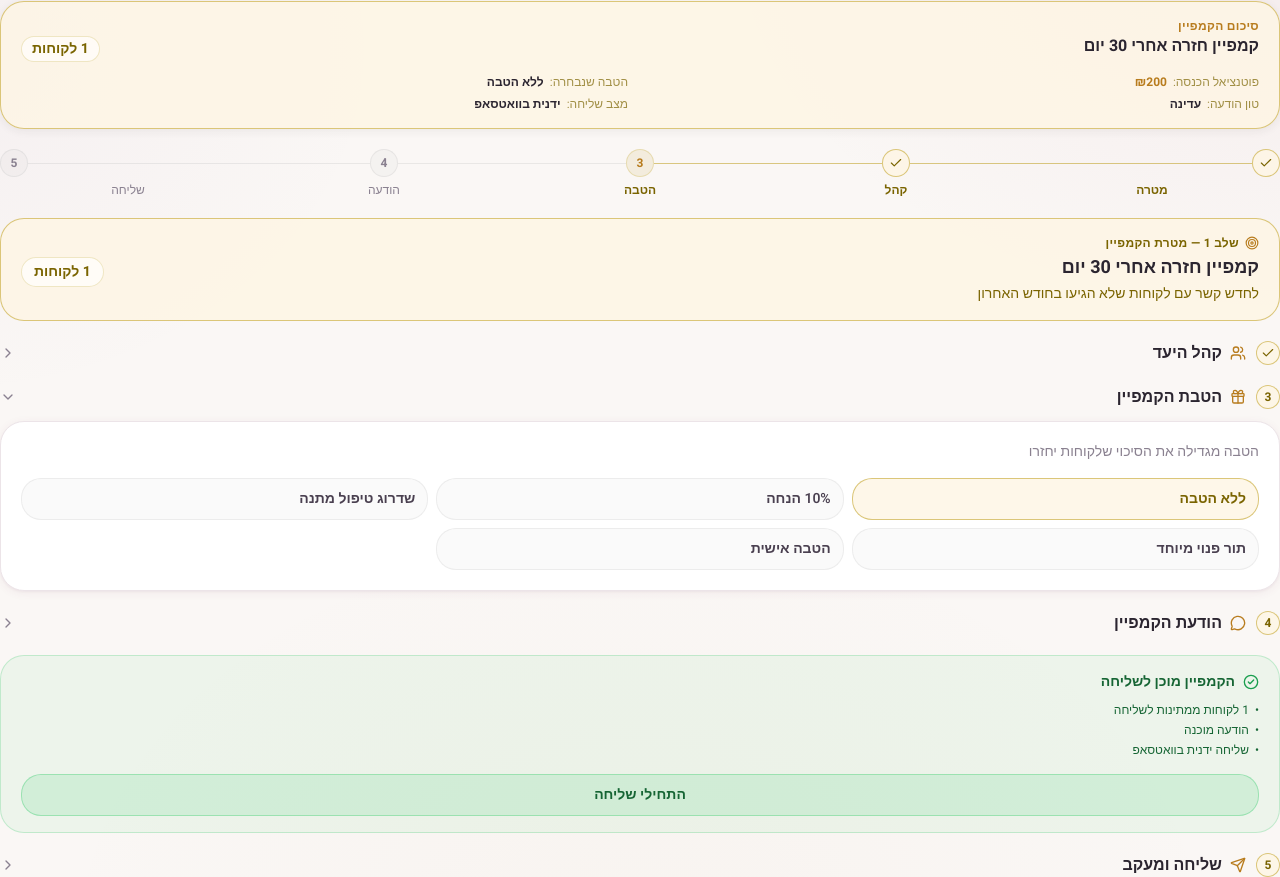
Test case: CampaignView — send & tracking › lists recipients with WhatsApp open links and copy/profile actions
The image size is (1280, 877).
(page scrolled)
Click the button "5 שליחה ומעקב" at (1172, 864), box [0, 852, 1279, 876]
(page scrolled)
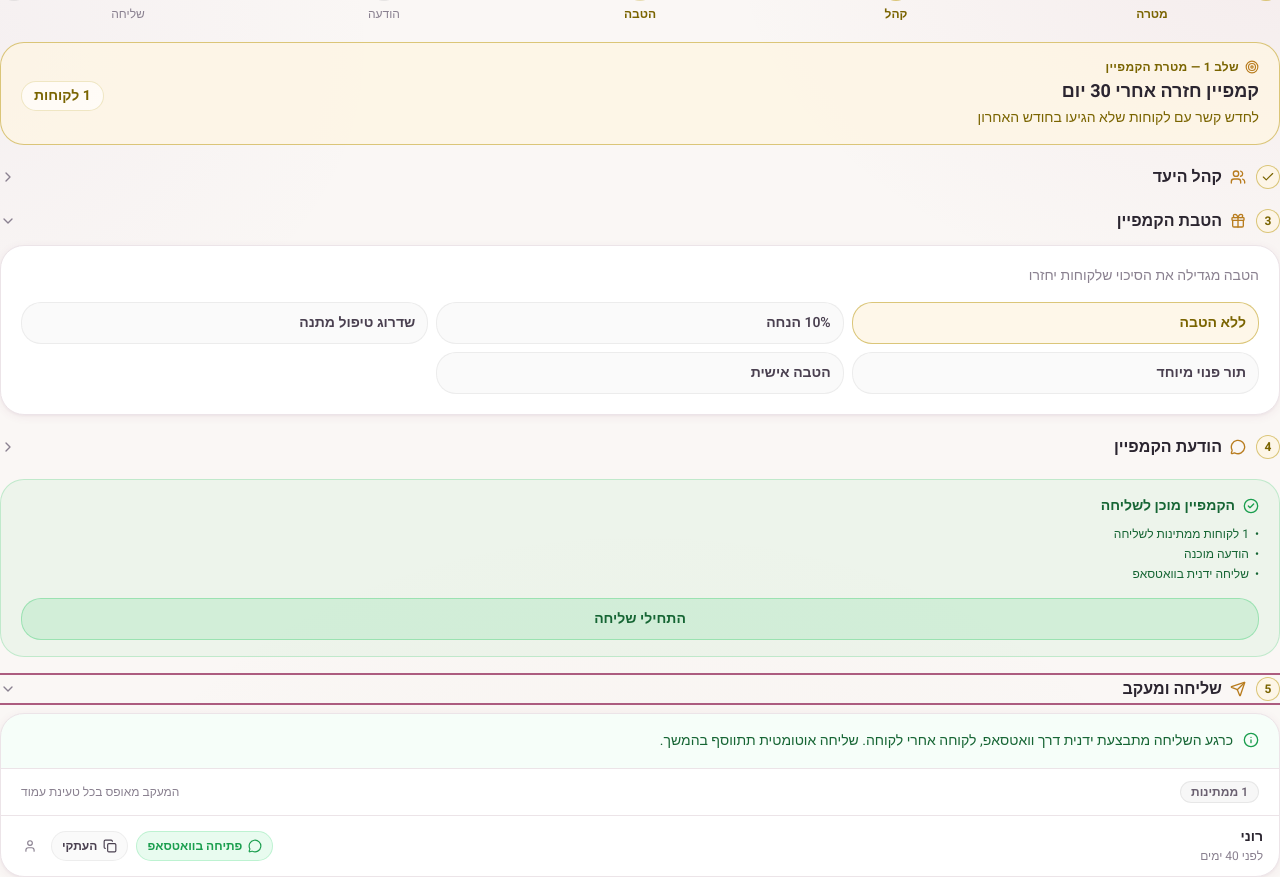
Expected: the text "רוני" is shown, [1240, 826, 1263, 847]
Expected: the link "פתיחה בוואטסאפ" is shown, [136, 831, 274, 861]
Expected: the link to "/clients/a" is shown, [23, 839, 37, 853]
